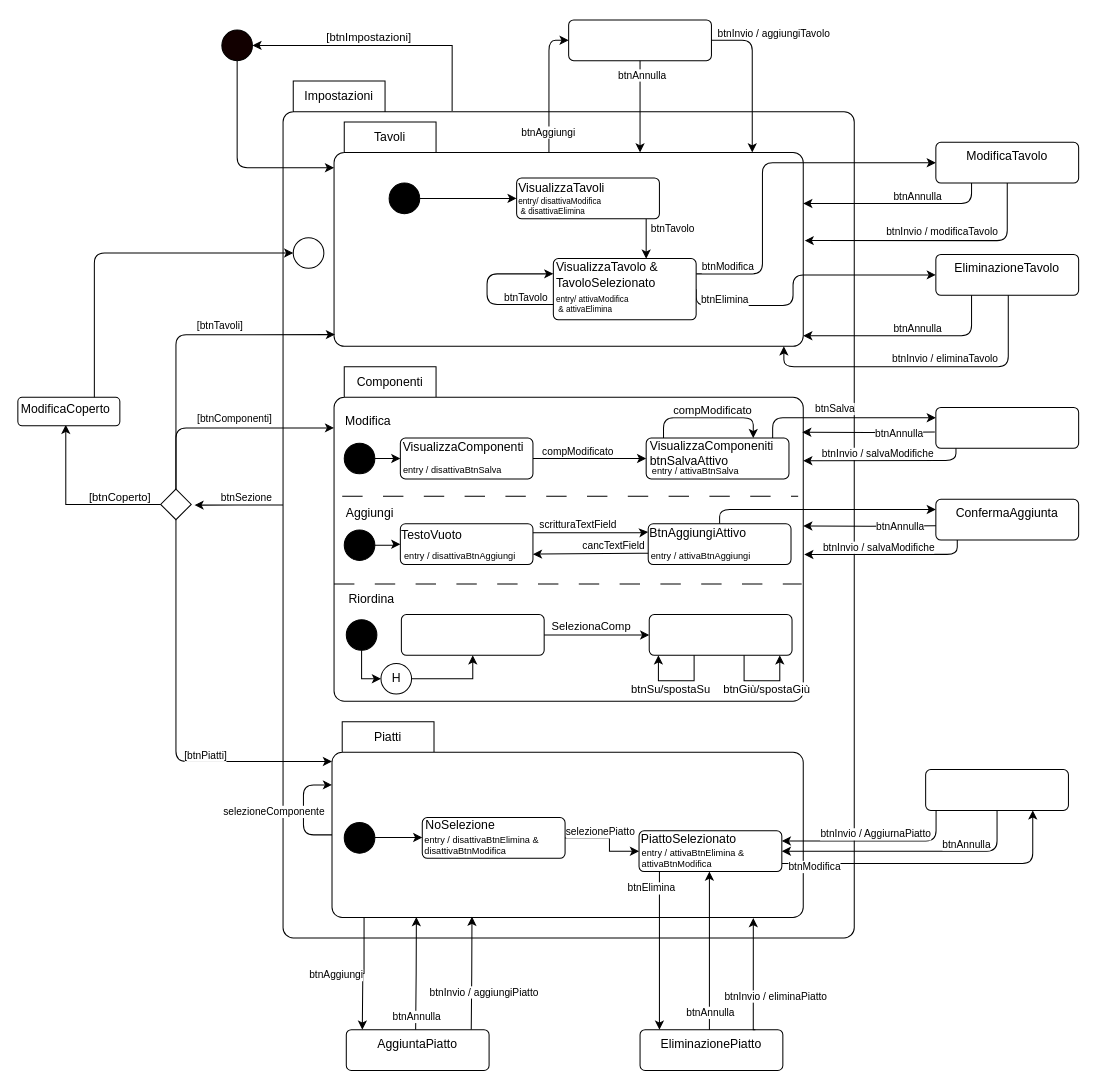
This 1097x1088 diagram has some shape labels left out. The box of each missing label's shape, as (x1, y1, x2, y2) in pixels:
AggiuntaTavolo: (568, 19, 711, 61)
CompNonSelezionata: (400, 614, 544, 655)
CompSelezionata: (648, 614, 792, 655)
ConfernaSalva: (935, 406, 1079, 448)
H*: (292, 237, 324, 268)
ModificaPiatto: (925, 769, 1068, 810)
